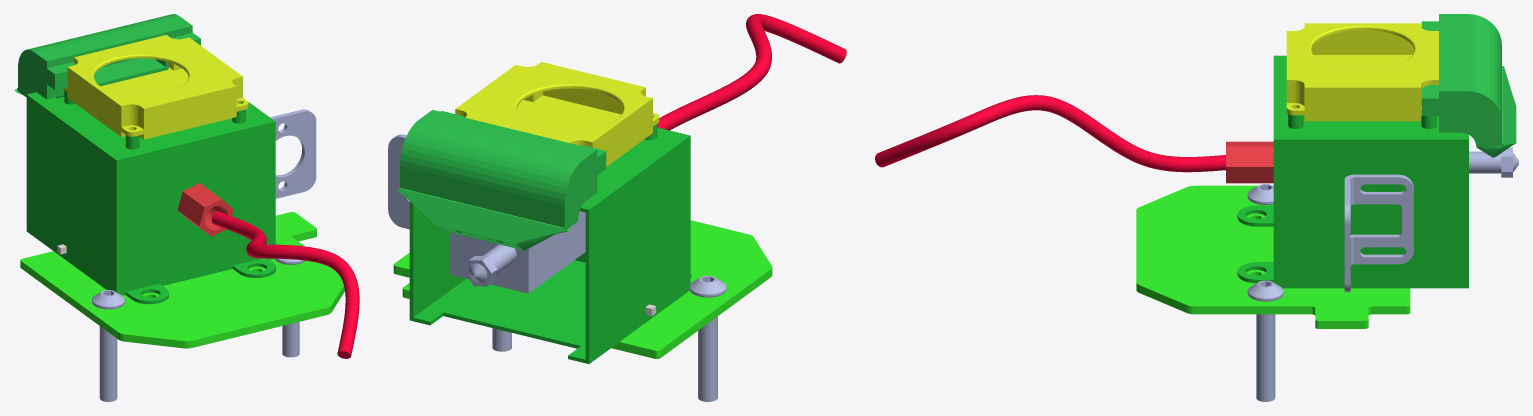
Rendered from hot-blend.glb.
3 views of the same model, side by side, from view 1: azimuth 30°, elevation 25°; view 2: azimuth 150°, elevation 25°; view 3: azimuth 270°, elevation 25° (orthographic). The views are drawn at different scales.
Parts seen in each view (by area): view 1: Shape_IndexedFaceSet, Shape_IndexedFaceSet.003, Shape_IndexedFaceSet.006, Shape_IndexedFaceSet.007, Shape_IndexedFaceSet.009, Shape_IndexedFaceSet.010, Shape_IndexedFaceSet.005, Shape_IndexedFaceSet.008, Shape_IndexedFaceSet.004; view 2: Shape_IndexedFaceSet, Shape_IndexedFaceSet.007, Shape_IndexedFaceSet.006, Shape_IndexedFaceSet.003, Shape_IndexedFaceSet.001, Shape_IndexedFaceSet.009, Shape_IndexedFaceSet.005, Shape_IndexedFaceSet.010, Shape_IndexedFaceSet.002, Shape_IndexedFaceSet.004; view 3: Shape_IndexedFaceSet, Shape_IndexedFaceSet.003, Shape_IndexedFaceSet.006, Shape_IndexedFaceSet.007, Shape_IndexedFaceSet.009, Shape_IndexedFaceSet.010, Shape_IndexedFaceSet.004, Shape_IndexedFaceSet.008, Shape_IndexedFaceSet.002.
Part boxes in pixels (x1,y1,x2,y2): Shape_IndexedFaceSet: (26, 90, 275, 304); Shape_IndexedFaceSet.003: (20, 212, 344, 348); Shape_IndexedFaceSet.006: (62, 35, 248, 139); Shape_IndexedFaceSet.007: (14, 14, 200, 99); Shape_IndexedFaceSet.009: (211, 211, 359, 358); Shape_IndexedFaceSet.010: (270, 109, 316, 198); Shape_IndexedFaceSet.005: (92, 290, 125, 401); Shape_IndexedFaceSet.008: (177, 183, 233, 236); Shape_IndexedFaceSet.004: (275, 258, 305, 357); Shape_IndexedFaceSet: (409, 124, 691, 363); Shape_IndexedFaceSet.007: (396, 110, 606, 250); Shape_IndexedFaceSet.006: (455, 62, 659, 166); Shape_IndexedFaceSet.003: (393, 220, 772, 358); Shape_IndexedFaceSet.001: (449, 211, 585, 293); Shape_IndexedFaceSet.009: (657, 14, 846, 130); Shape_IndexedFaceSet.005: (689, 275, 726, 401); Shape_IndexedFaceSet.010: (388, 134, 409, 229); Shape_IndexedFaceSet.002: (464, 244, 516, 286); Shape_IndexedFaceSet.004: (492, 328, 511, 351); Shape_IndexedFaceSet: (1237, 55, 1468, 288); Shape_IndexedFaceSet.003: (1136, 185, 1410, 328); Shape_IndexedFaceSet.006: (1286, 23, 1438, 121); Shape_IndexedFaceSet.007: (1421, 14, 1516, 157); Shape_IndexedFaceSet.009: (875, 95, 1225, 172); Shape_IndexedFaceSet.010: (1344, 174, 1413, 292); Shape_IndexedFaceSet.004: (1247, 280, 1283, 401); Shape_IndexedFaceSet.008: (1226, 141, 1273, 183); Shape_IndexedFaceSet.002: (1469, 147, 1518, 177).
Bounding box in the file's own units: 87.85 × 86.05 × 169.
